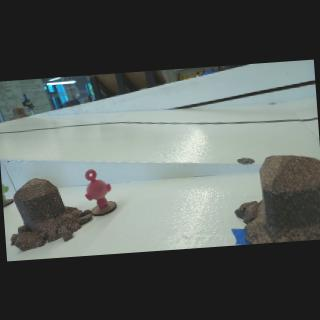teletubby: (84, 169, 110, 210), (1, 183, 8, 202)
